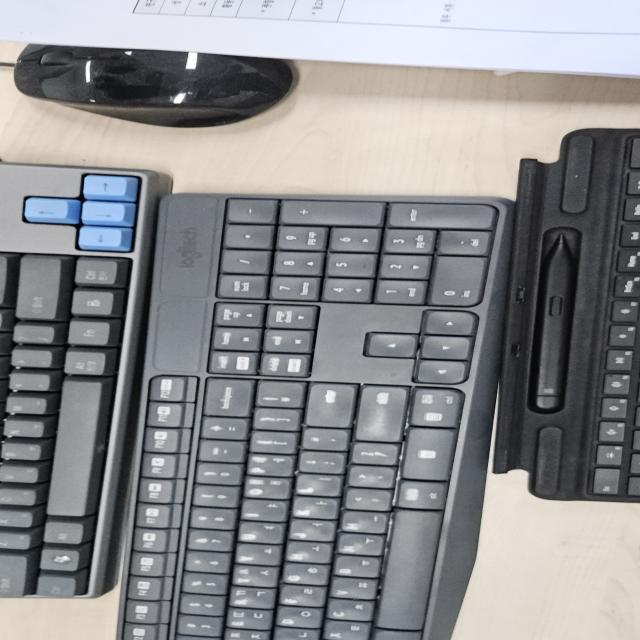Keyboard: (3, 127, 636, 638)
Mouse: (12, 42, 300, 128)
